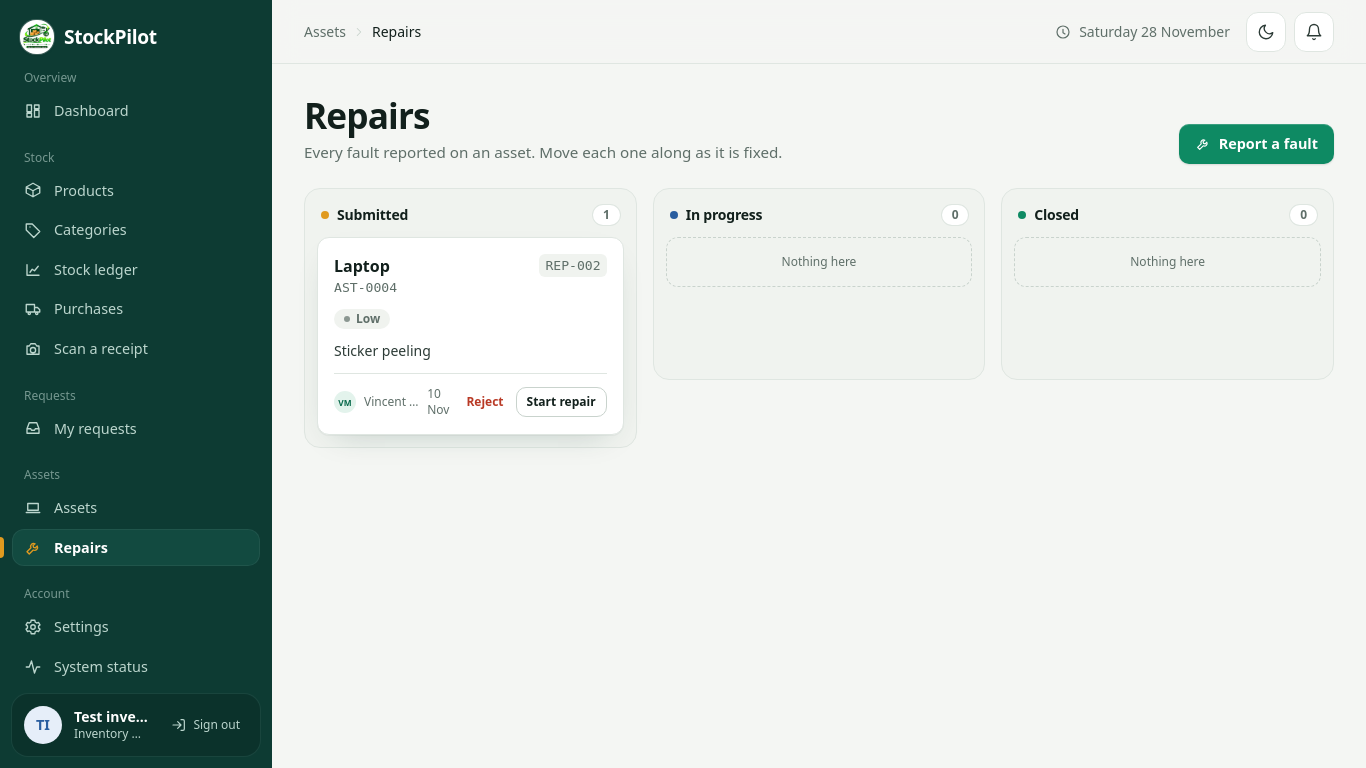
Test: repairs (US-38) › are rejected with a reason from the board
Click the button with aria-label "Reject: REP-002" at (485, 402), box [458,387,512,417]
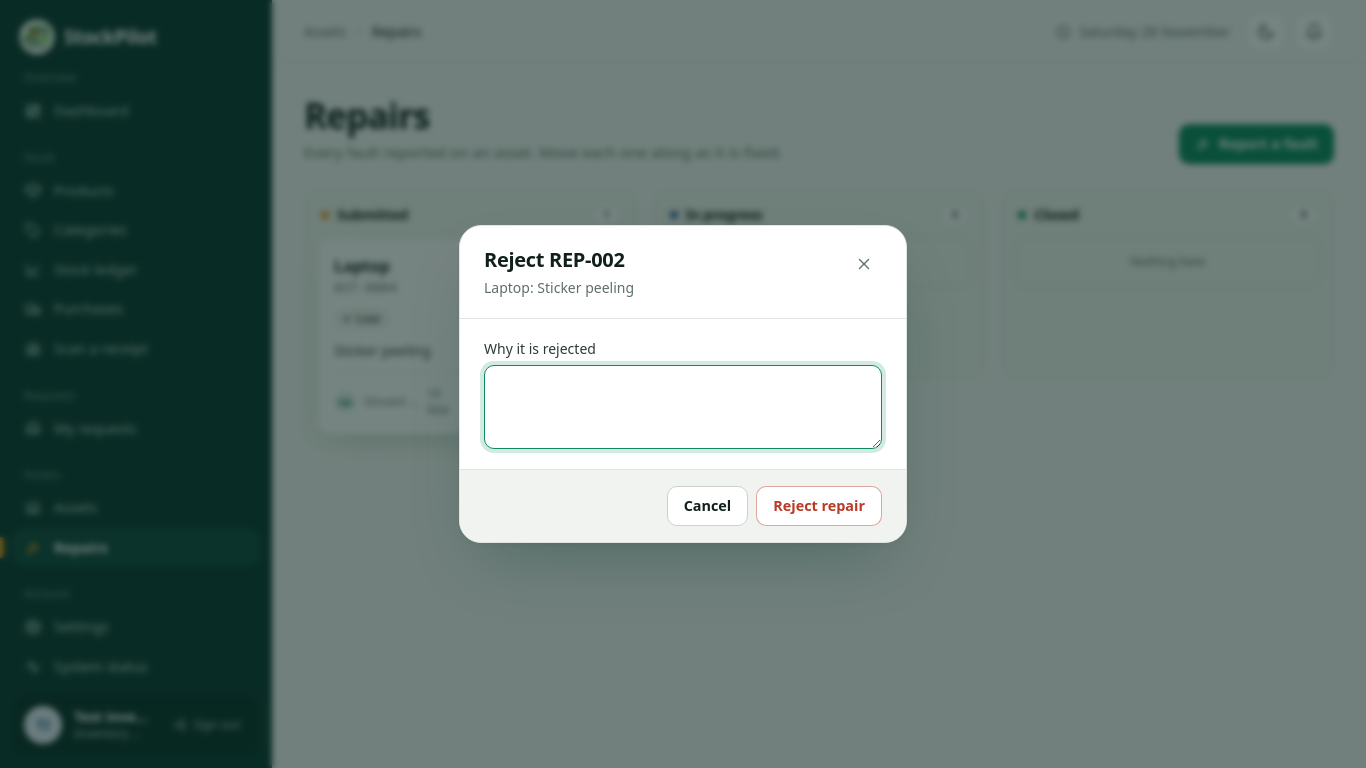
Click the button "Reject repair" at (819, 506), box [756,486,882,526]
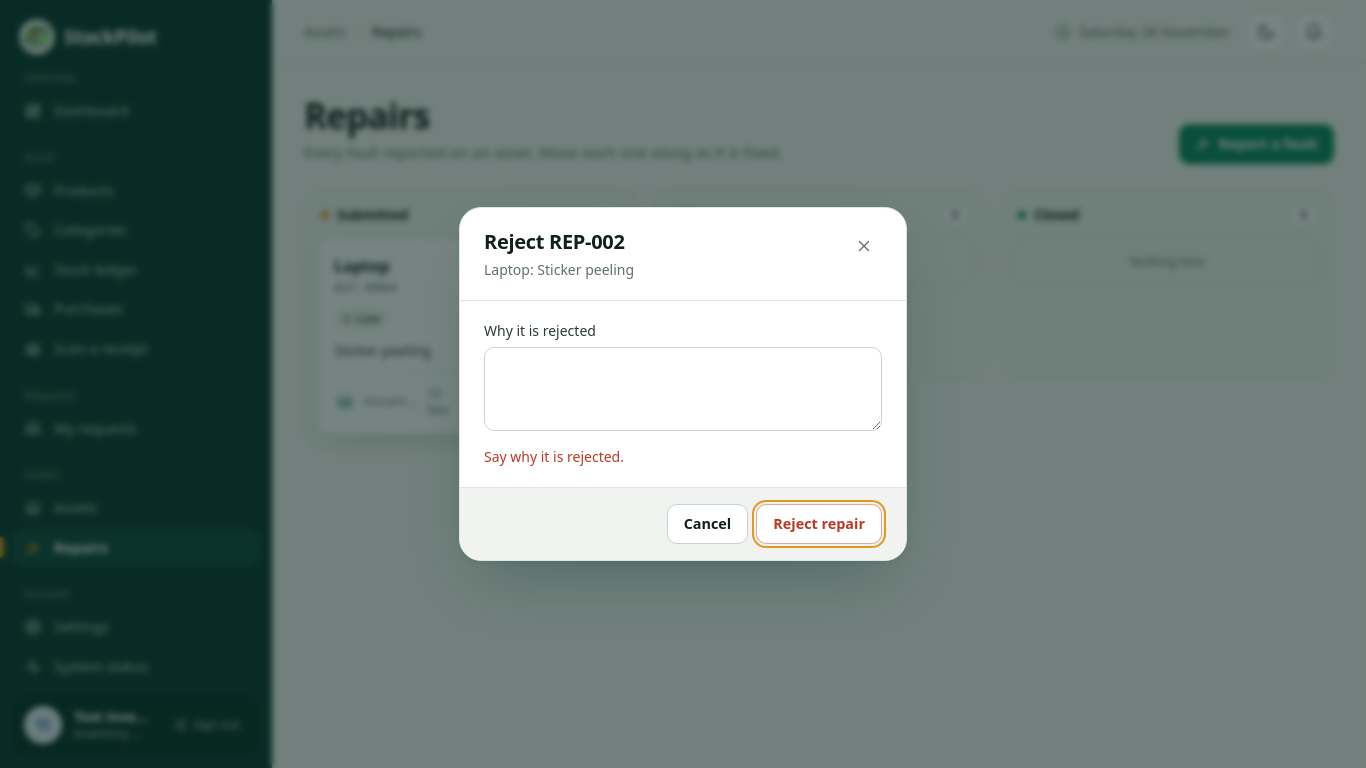
Expected: the message reads "Say why it is rejected.", [484,447,624,466]
Type "Cosmetic only" into the text box labelled "Why it is rejected" at (683, 389), box [484,347,882,431]
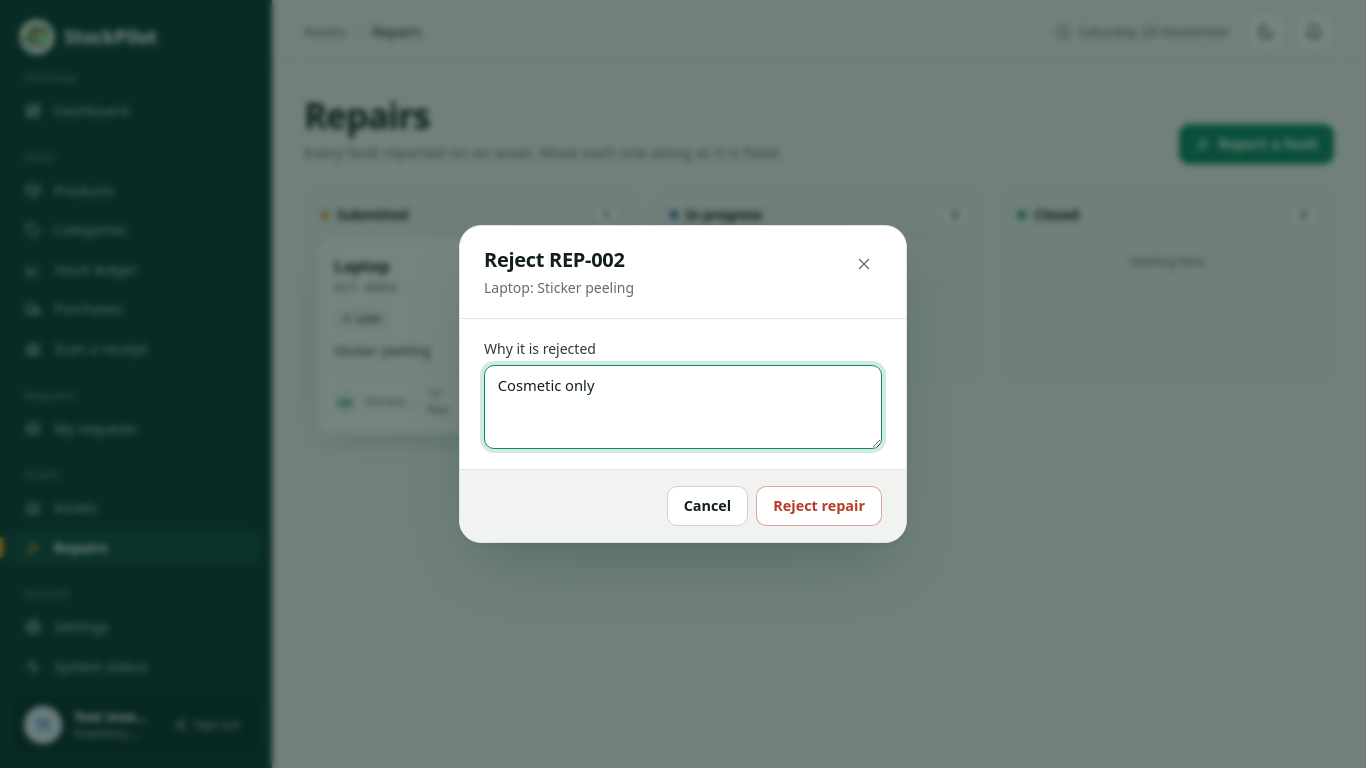
Click the button "Reject repair" at (819, 506), box [756,486,882,526]
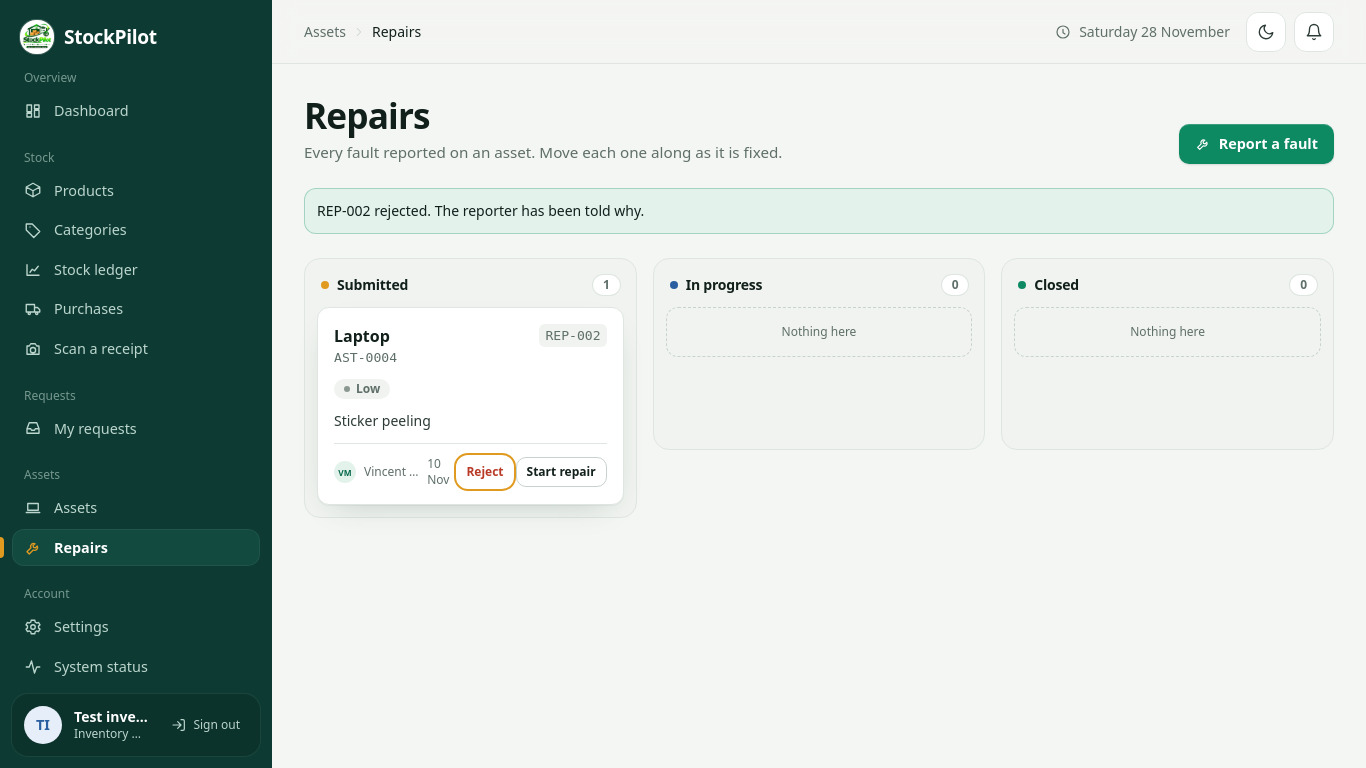
Expected: the text "REP-002 rejected. The reporter has been told why." is shown, [304,188,1334,234]
